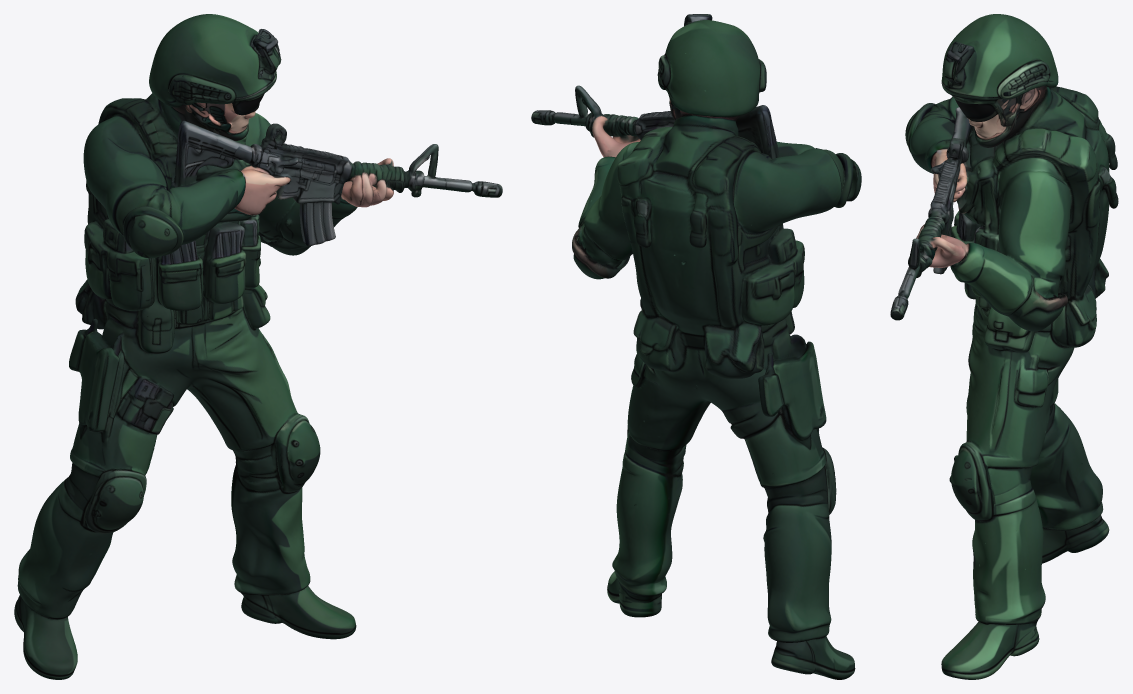
The model's file is military soldier 3d model (3).glb.
The picture shows the model from 3 angles, left to right: view 1: azimuth 30°, elevation 25°; view 2: azimuth 150°, elevation 25°; view 3: azimuth 270°, elevation 25°; orthographic projection. The views are drawn at different scales.
Visible parts, largest first — view 1: tripo_node_9ed0922f-7640-47ea-b230-b3eb16c76337; view 2: tripo_node_9ed0922f-7640-47ea-b230-b3eb16c76337; view 3: tripo_node_9ed0922f-7640-47ea-b230-b3eb16c76337.
Boxes of the visible parts, left/top/right/bottom form: tripo_node_9ed0922f-7640-47ea-b230-b3eb16c76337: left=14, top=14, right=502, bottom=679; tripo_node_9ed0922f-7640-47ea-b230-b3eb16c76337: left=531, top=14, right=861, bottom=679; tripo_node_9ed0922f-7640-47ea-b230-b3eb16c76337: left=890, top=14, right=1118, bottom=679.
Bounding box in the file's own units: 0.6621 × 1 × 0.339.
Materials: 1 (1 with a texture image).
